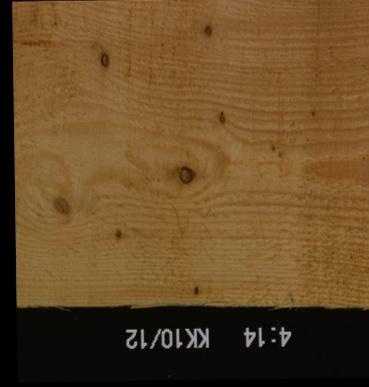dry_knot: (98, 50, 111, 69)
small_knot: (214, 106, 228, 127), (202, 22, 214, 40), (112, 226, 125, 240), (307, 107, 318, 120), (191, 283, 201, 297), (267, 141, 277, 154)
sound_knot: (51, 194, 72, 216)
